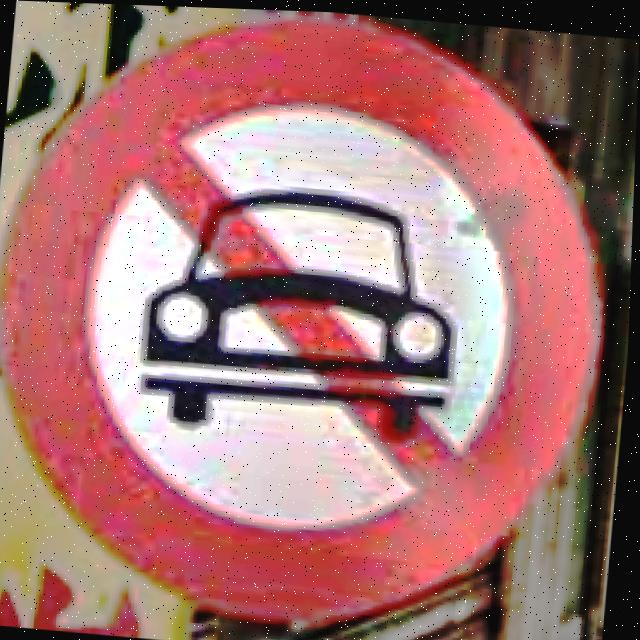nocar: (0, 15, 605, 622)
